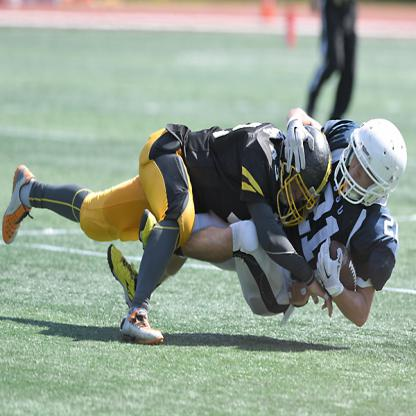Fall_Down: (1, 123, 333, 344)
